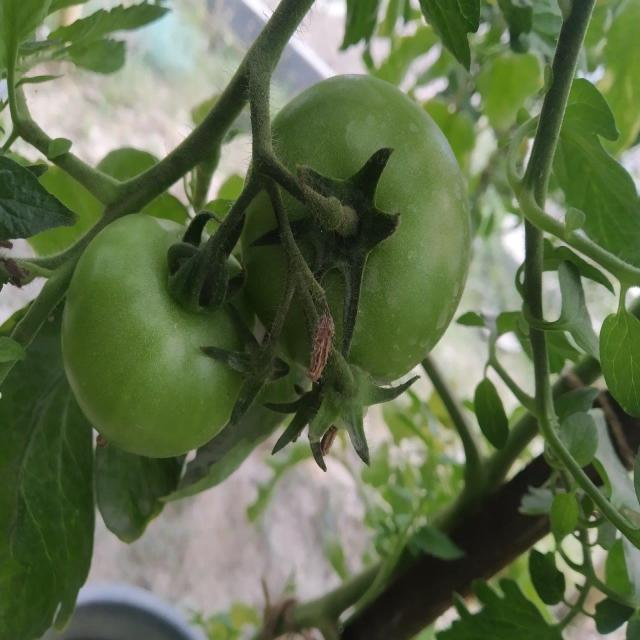Unripe: (240, 74, 473, 388), (62, 211, 237, 459)
